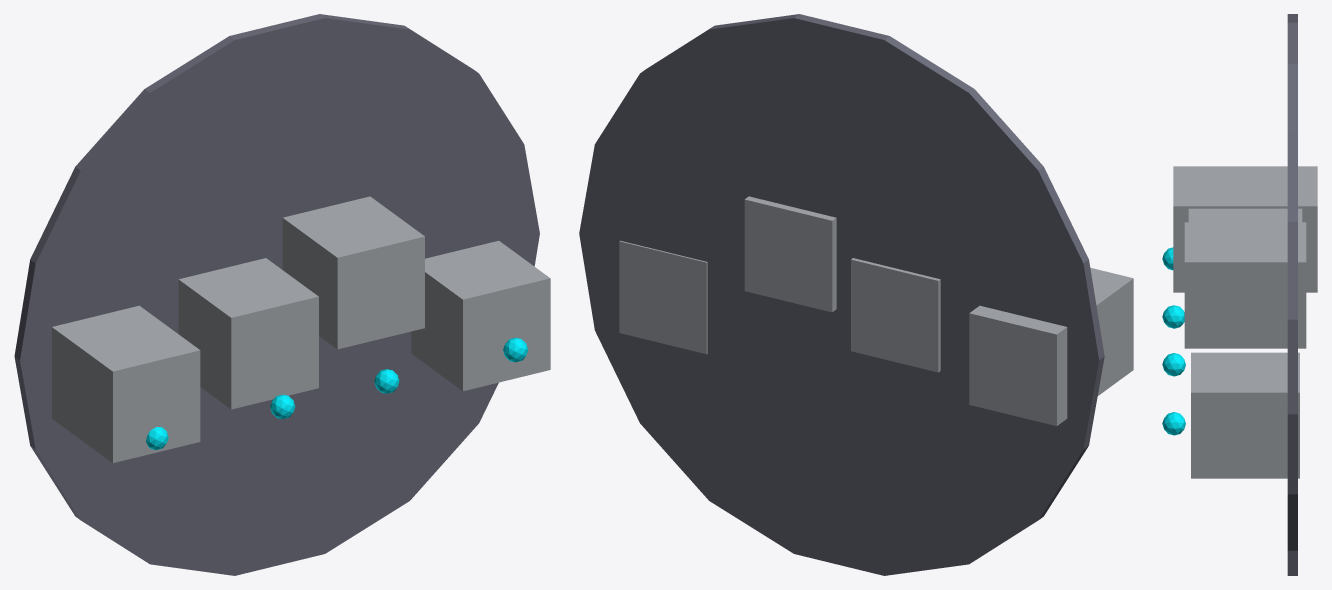
The model's file is 03_ambient_object_cluster.glb.
The picture shows the model from 3 angles, left to right: view 1: azimuth 30°, elevation 25°; view 2: azimuth 150°, elevation 25°; view 3: azimuth 270°, elevation 25°; orthographic projection. The views are drawn at different scales.
Visible parts, largest first — view 1: scatter_base, tech_crate_0, tech_crate_1, tech_crate_2, tech_crate_3; view 2: scatter_base, tech_crate_0, tech_crate_2, tech_crate_1, tech_crate_3; view 3: tech_crate_2, tech_crate_3, tech_crate_0, scatter_base, tech_crate_1, status_light_2, status_light_3, status_light_1.
Part boxes in pixels (x1=…): scatter_base: x1=14, y1=14, x2=539, y2=575; tech_crate_0: x1=52, y1=305, x2=200, y2=462; tech_crate_1: x1=178, y1=258, x2=318, y2=409; tech_crate_2: x1=282, y1=196, x2=424, y2=349; tech_crate_3: x1=411, y1=240, x2=550, y2=391; scatter_base: x1=579, y1=14, x2=1104, y2=575; tech_crate_0: x1=969, y1=267, x2=1133, y2=426; tech_crate_2: x1=744, y1=196, x2=836, y2=312; tech_crate_1: x1=851, y1=258, x2=940, y2=372; tech_crate_3: x1=619, y1=240, x2=707, y2=354; tech_crate_2: x1=1184, y1=222, x2=1306, y2=348; tech_crate_3: x1=1191, y1=352, x2=1299, y2=478; tech_crate_0: x1=1173, y1=166, x2=1317, y2=292; scatter_base: x1=1287, y1=14, x2=1297, y2=575; tech_crate_1: x1=1188, y1=208, x2=1302, y2=222; status_light_2: x1=1162, y1=353, x2=1185, y2=376; status_light_3: x1=1162, y1=412, x2=1185, y2=435; status_light_1: x1=1162, y1=305, x2=1184, y2=328.
Size of the model in its own units: 1.9 by 1.87 by 0.5234.
